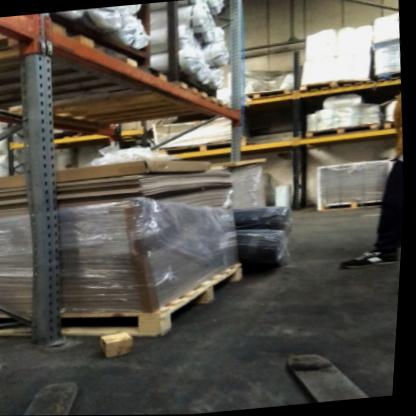vertical_damage: (33, 328, 84, 357)
